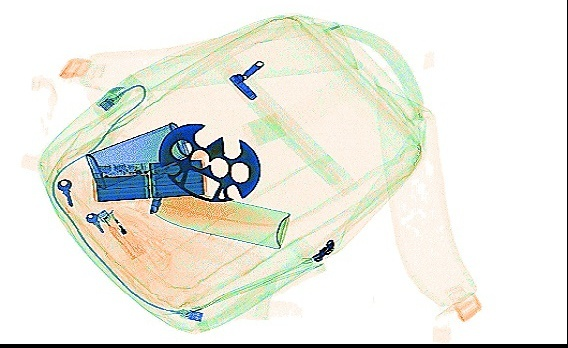lighter: (94, 206, 146, 260)
powerbank: (89, 157, 207, 201)
pressure: (146, 184, 291, 249)
zippooil: (85, 118, 190, 189)
